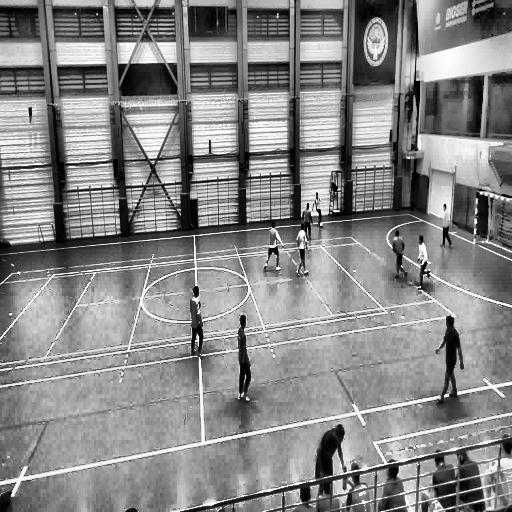ball: (318, 220, 324, 231)
player: (436, 314, 464, 402), (314, 424, 347, 496), (237, 315, 253, 403), (189, 285, 206, 358), (263, 219, 282, 274), (392, 229, 407, 281), (296, 222, 309, 278), (417, 235, 429, 288), (440, 202, 452, 247), (302, 203, 314, 244), (312, 190, 322, 229)
